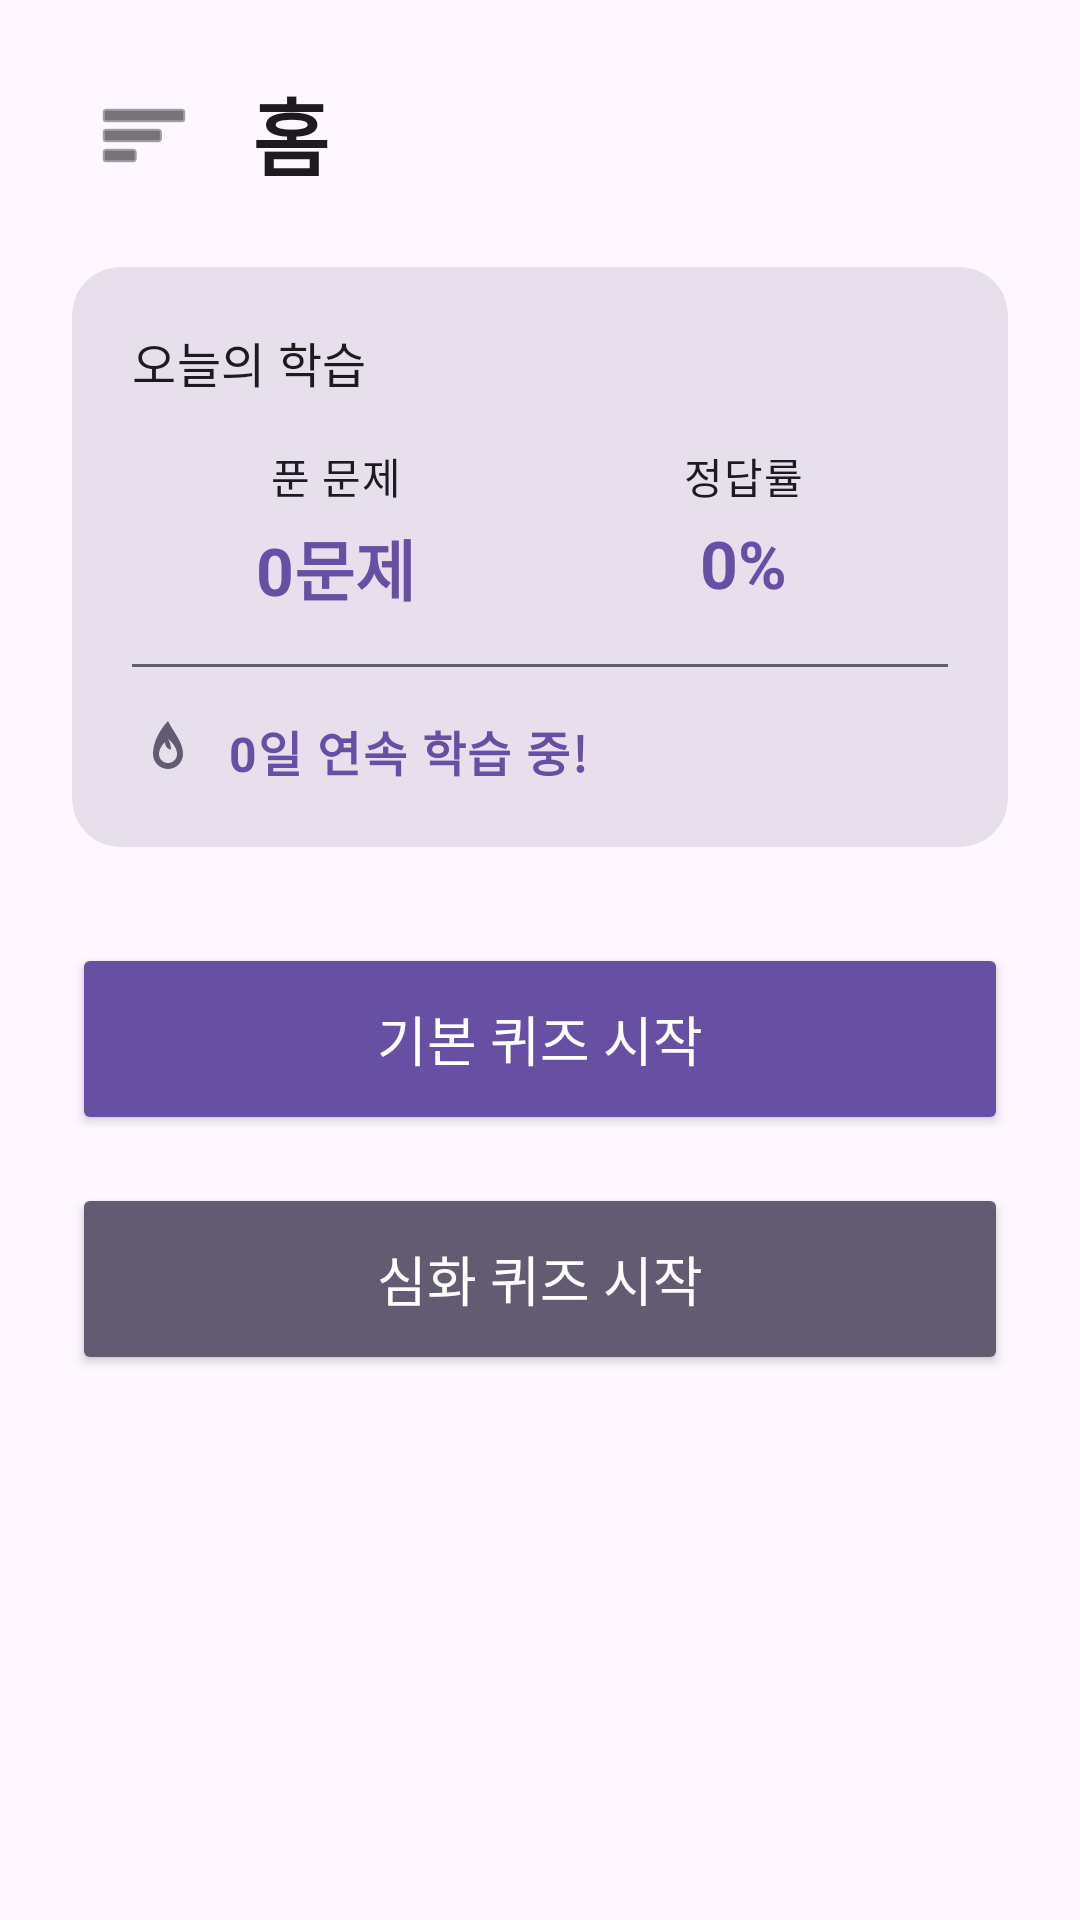

Point at icon controls on the screen. Image size 1080px x 1920px, points as [x,y].
streak: [168,745]
메뉴: [144,135]
